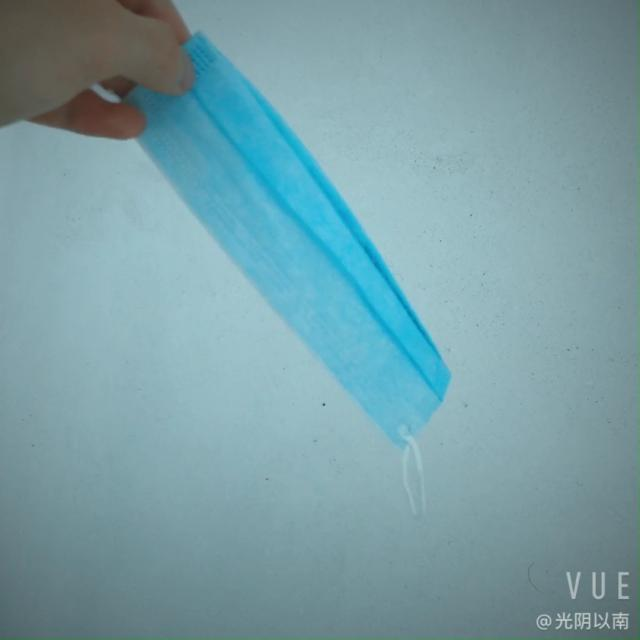non-organic waste: (125, 20, 465, 449)
